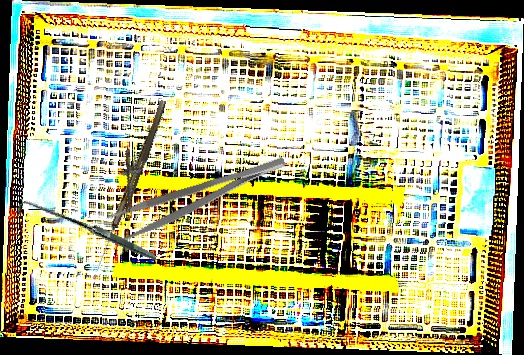Dressing Forceps: (106, 152, 293, 246)
Hook Surgical: (15, 159, 157, 307)
Needle Holder: (107, 94, 168, 213)
Surgical Spoon: (93, 102, 166, 274)
